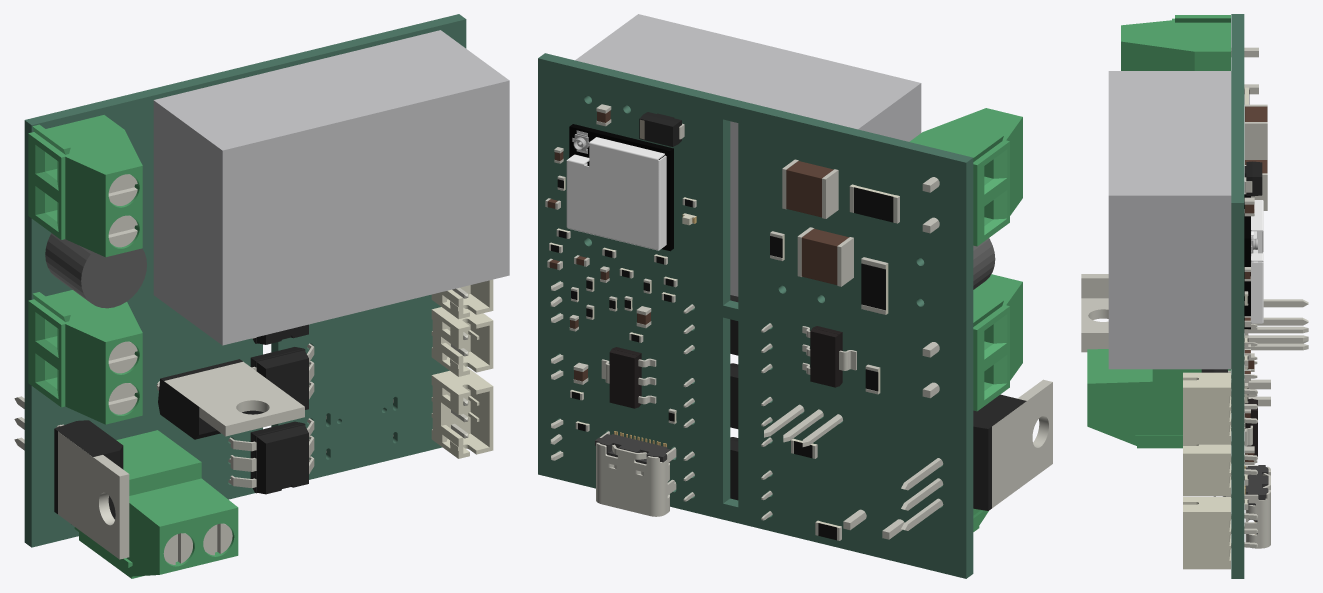
Rendered from board.glb.
3 views of the same model, side by side, from view 1: azimuth 30°, elevation 25°; view 2: azimuth 150°, elevation 25°; view 3: azimuth 270°, elevation 25° (orthographic). The views are drawn at different scales.
Visible parts, largest first — view 1: PS1, =>[0:1:1:36], =>[0:1:1:7], =>[0:1:1:9]_f2ccfd, =>[0:1:1:7]_1_91c9d3, =>[0:1:1:13]_1_7da0d0, =>[0:1:1:13]_0e274d, F1, =>[0:1:1:5]_1_02b663, =>[0:1:1:3]_1_9a48c1, =>[0:1:1:11]_f237b4, =>[0:1:1:3]_238a05 (+7 smaller); view 2: =>[0:1:1:36], PS1, =>[0:1:1:29]_c792b4, =>[0:1:1:7], =>[0:1:1:13]_1_7da0d0, =>[0:1:1:7]_1_91c9d3, =>[0:1:1:31]_b952f0, =>[0:1:1:13]_1_7ecfe9, =>[0:1:1:33]_1_4b8562, =>[0:1:1:29]_daf4bf, =>[0:1:1:33]_4afa62, =>[0:1:1:23]_b62b84 (+9 smaller); view 3: PS1, =>[0:1:1:36], =>[0:1:1:9]_f2ccfd, =>[0:1:1:7], =>[0:1:1:5]_1_02b663, =>[0:1:1:5], =>[0:1:1:11]_f237b4, =>[0:1:1:13]_0e274d, =>[0:1:1:13]_1_7da0d0, =>[0:1:1:29]_c792b4, =>[0:1:1:31]_b952f0, =>[0:1:1:33]_e3b75c (+7 smaller).
Boxes of the visible parts, x1,y1,x2,y2 form: PS1: (153, 30, 509, 345); =>[0:1:1:36]: (24, 14, 466, 547); =>[0:1:1:7]: (28, 115, 142, 257); =>[0:1:1:9]_f2ccfd: (74, 430, 238, 578); =>[0:1:1:7]_1_91c9d3: (28, 290, 142, 424); =>[0:1:1:13]_1_7da0d0: (14, 396, 129, 559); =>[0:1:1:13]_0e274d: (156, 361, 304, 436); F1: (45, 233, 146, 308); =>[0:1:1:5]_1_02b663: (431, 366, 493, 458); =>[0:1:1:3]_1_9a48c1: (250, 421, 308, 494); =>[0:1:1:11]_f237b4: (431, 307, 493, 376); =>[0:1:1:3]_238a05: (250, 347, 308, 409); =>[0:1:1:36]: (538, 53, 973, 578); PS1: (575, 14, 921, 296); =>[0:1:1:29]_c792b4: (566, 137, 666, 250); =>[0:1:1:7]: (909, 108, 1022, 246); =>[0:1:1:13]_1_7da0d0: (901, 379, 1052, 530); =>[0:1:1:7]_1_91c9d3: (973, 274, 1022, 411); =>[0:1:1:31]_b952f0: (596, 431, 676, 516); =>[0:1:1:13]_1_7ecfe9: (973, 394, 1026, 510); =>[0:1:1:33]_1_4b8562: (801, 228, 848, 284); =>[0:1:1:29]_daf4bf: (569, 124, 673, 251); =>[0:1:1:33]_4afa62: (786, 161, 833, 217); =>[0:1:1:23]_b62b84: (609, 347, 641, 408); PS1: (1108, 71, 1231, 369); =>[0:1:1:36]: (1231, 14, 1244, 578); =>[0:1:1:9]_f2ccfd: (1087, 349, 1230, 448); =>[0:1:1:7]: (1121, 15, 1230, 70); =>[0:1:1:5]_1_02b663: (1183, 497, 1230, 569); =>[0:1:1:5]: (1183, 372, 1230, 444); =>[0:1:1:11]_f237b4: (1183, 444, 1230, 496); =>[0:1:1:13]_0e274d: (1081, 298, 1308, 350); =>[0:1:1:13]_1_7da0d0: (1081, 274, 1308, 352); =>[0:1:1:29]_c792b4: (1251, 200, 1263, 323); =>[0:1:1:31]_b952f0: (1244, 465, 1270, 548); =>[0:1:1:33]_e3b75c: (1244, 104, 1267, 159).
Bounding box in the file's own units: 56.48 × 52.48 × 28.52.
